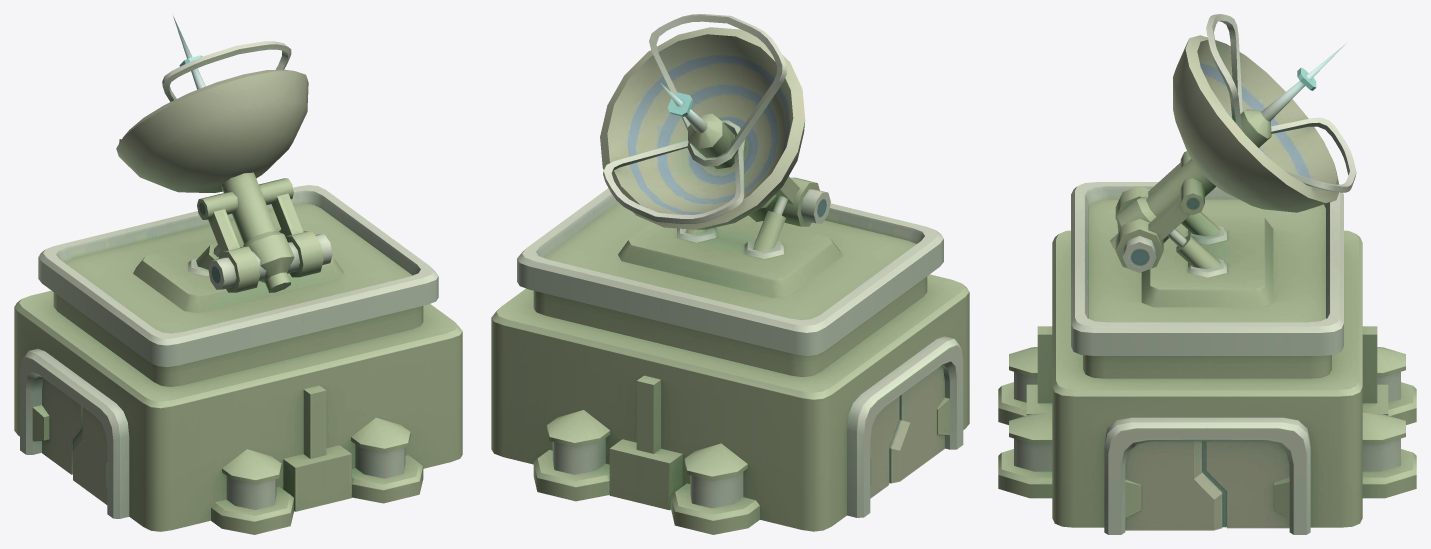
The model's file is Props.fbx.
The picture shows the model from 3 angles, left to right: view 1: azimuth 30°, elevation 25°; view 2: azimuth 150°, elevation 25°; view 3: azimuth 270°, elevation 25°; orthographic projection. The views are drawn at different scales.
Visible parts, largest first — view 1: DCshiyanshi; view 2: DCshiyanshi; view 3: DCshiyanshi.
Boxes of the visible parts, left/top/right/bottom form: DCshiyanshi: left=14, top=16, right=462, bottom=534; DCshiyanshi: left=491, top=14, right=969, bottom=534; DCshiyanshi: left=998, top=14, right=1416, bottom=534.
Bounding box in the file's own units: 8.17 × 8.99 × 8.12.
1 material, 1 textured.
